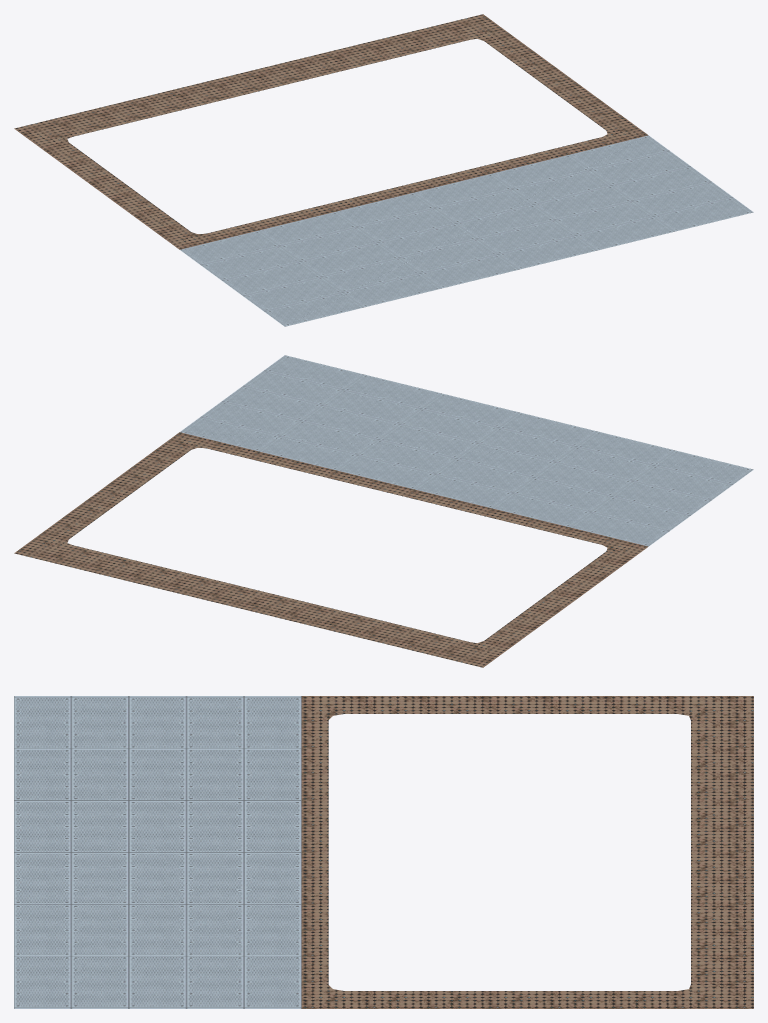
Rendered from obj_floor_base.gltf.
3 views of the same model, one above another, from view 1: azimuth 30°, elevation 25°; view 2: azimuth 150°, elevation 25°; view 3: azimuth 270°, elevation 25° (orthographic). The views are drawn at different scales.
Visible parts, largest first — view 1: obj_floor_base; view 2: obj_floor_base; view 3: obj_floor_base.
Boxes of the visible parts, box(x1,y1,x2,y2) form: obj_floor_base: box(14, 14, 753, 326); obj_floor_base: box(14, 355, 753, 667); obj_floor_base: box(14, 696, 753, 1008).
Size of the model in its own units: 16 by 0 by 16.
2 materials, 2 textured.
